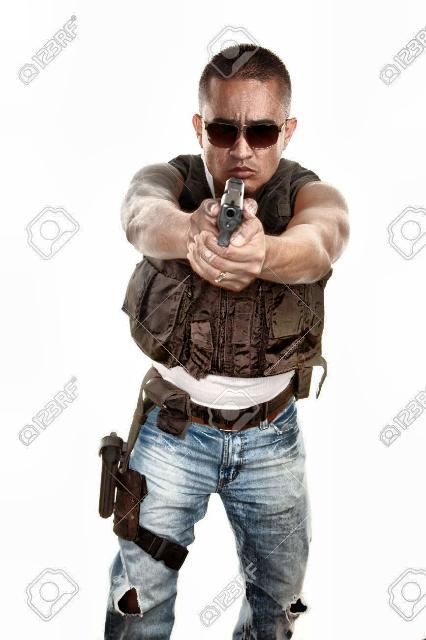pistol: (211, 175, 251, 251)
